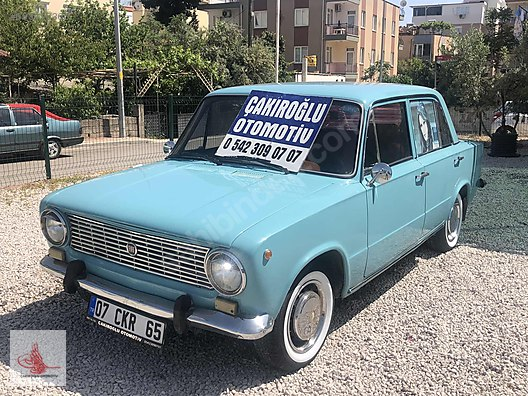murat: (34, 80, 473, 372)
